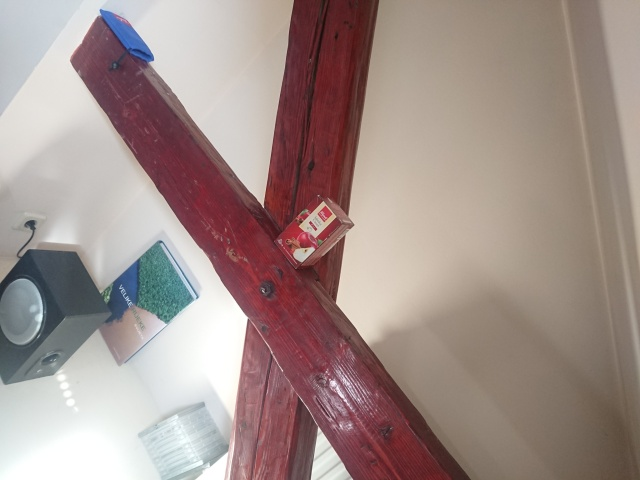Franck Apple Cinnamon Tea 60g: (272, 192, 355, 271)
